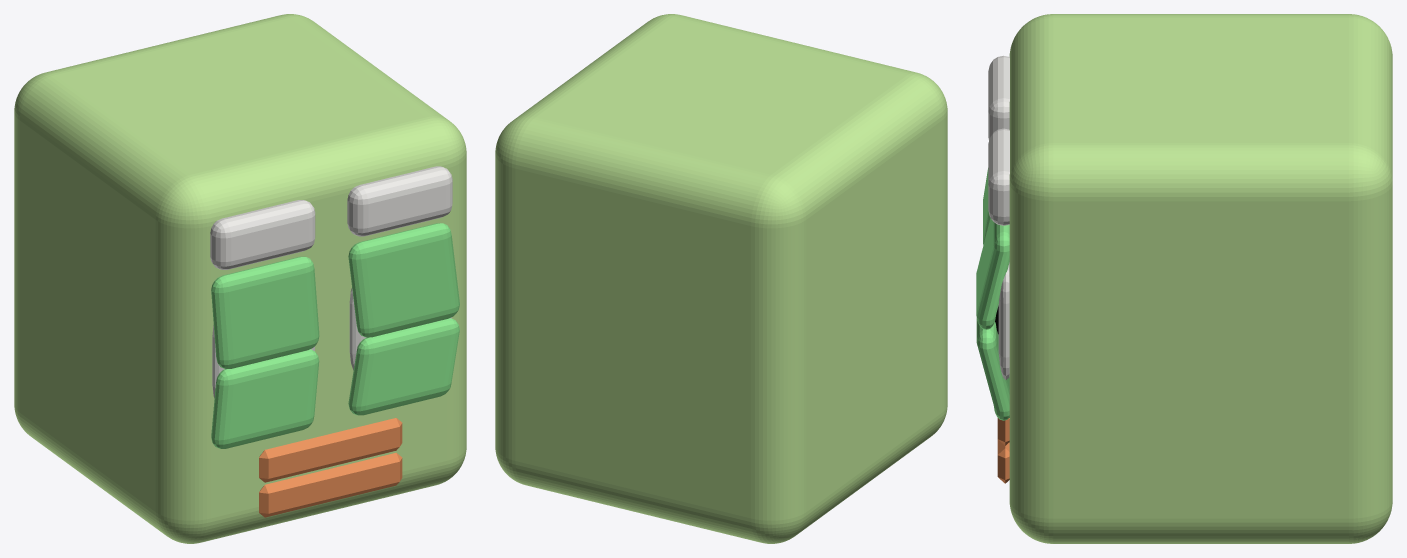
The model's file is RoBot_Head.glb.
3 views of the same model, side by side, from view 1: azimuth 30°, elevation 25°; view 2: azimuth 150°, elevation 25°; view 3: azimuth 270°, elevation 25° (orthographic). The views are drawn at different scales.
Visible parts, largest first — view 1: RoBot_Head.004; view 2: RoBot_Head.004; view 3: RoBot_Head.004.
Boxes of the visible parts, left/top/right/bottom form: RoBot_Head.004: left=14, top=14, right=466, bottom=543; RoBot_Head.004: left=495, top=14, right=947, bottom=543; RoBot_Head.004: left=976, top=14, right=1392, bottom=543.
Size of the model in its own units: 0.7 by 0.8 by 0.7608.
